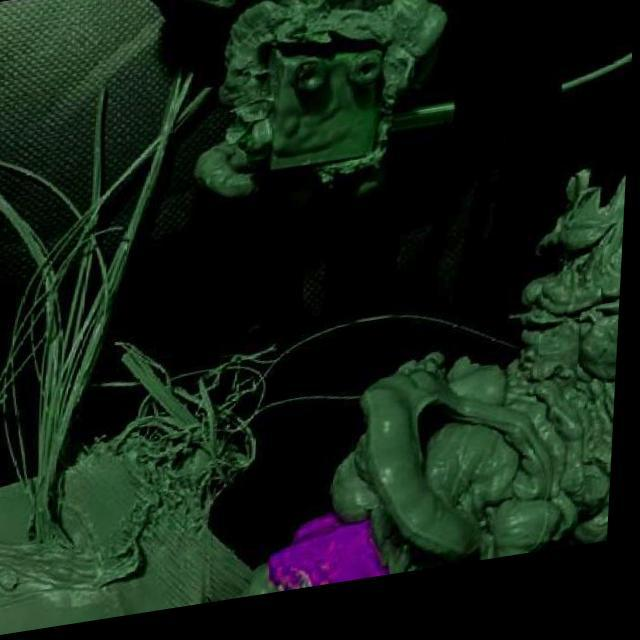spaghetti: (0, 81, 123, 558), (108, 320, 289, 541)
